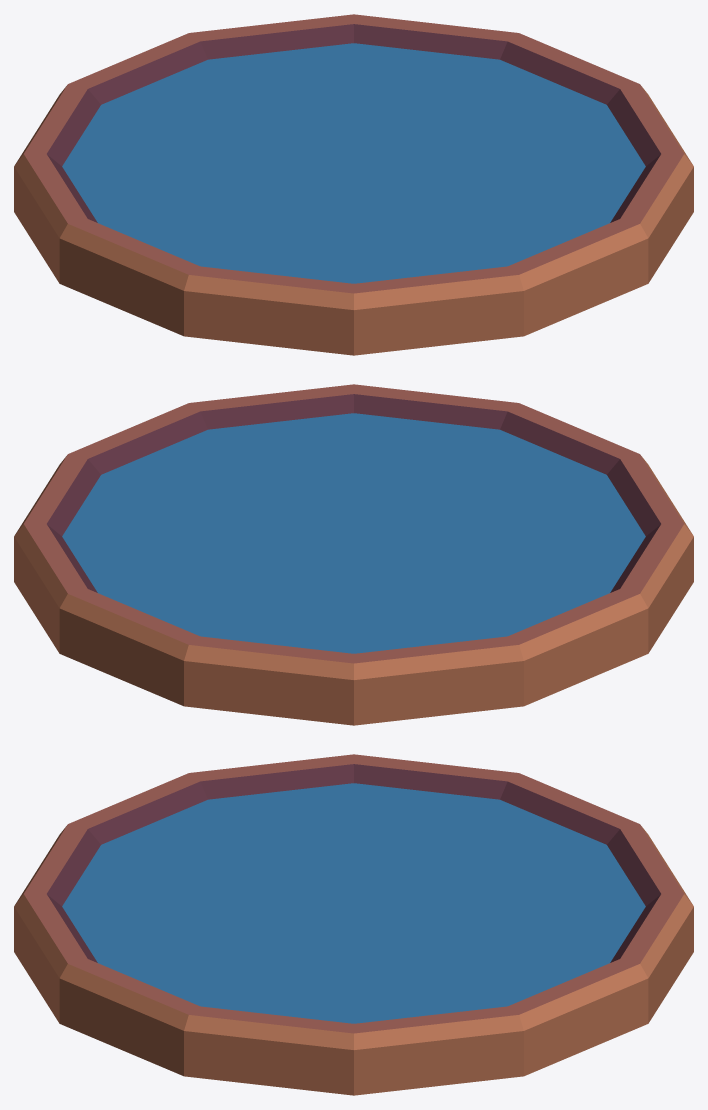
File: Postolje.fbx
The picture shows the model from 3 angles, top to bottom: view 1: azimuth 30°, elevation 25°; view 2: azimuth 150°, elevation 25°; view 3: azimuth 270°, elevation 25°; orthographic projection.
Parts seen in each view (by area): view 1: Cylinder; view 2: Cylinder; view 3: Cylinder.
Part boxes in pixels (x1=…): Cylinder: x1=14, y1=14, x2=693, y2=355; Cylinder: x1=14, y1=384, x2=693, y2=725; Cylinder: x1=14, y1=754, x2=693, y2=1095.
Bounding box in the file's own units: 2329 × 219 × 2329.
